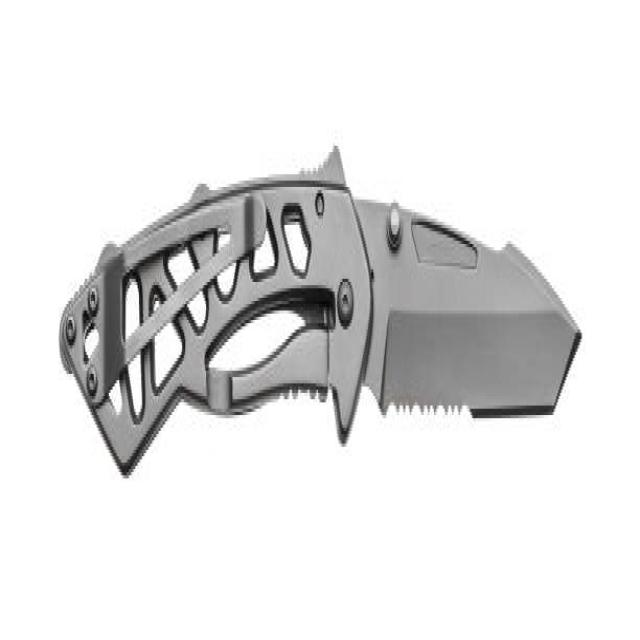knife: (50, 109, 587, 545)
